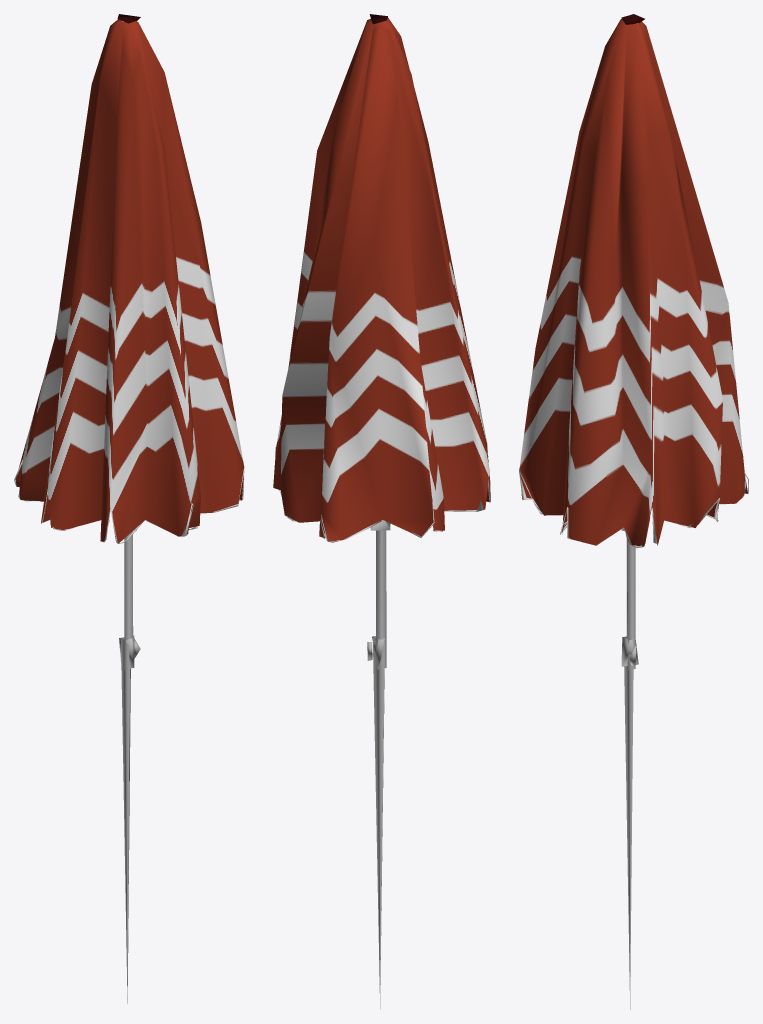
Rendered from sombrillaC.obj.
The picture shows the model from 3 angles, left to right: view 1: azimuth 30°, elevation 25°; view 2: azimuth 150°, elevation 25°; view 3: azimuth 270°, elevation 25°; orthographic projection.
Visible parts, largest first — view 1: Sun_Umbrella_closed_Mesh.012; view 2: Sun_Umbrella_closed_Mesh.012; view 3: Sun_Umbrella_closed_Mesh.012.
Boxes of the visible parts, x1=… form: Sun_Umbrella_closed_Mesh.012: x1=14, y1=14, x2=244, y2=1003; Sun_Umbrella_closed_Mesh.012: x1=273, y1=14, x2=490, y2=1009; Sun_Umbrella_closed_Mesh.012: x1=519, y1=14, x2=748, y2=1009.
Bounding box in the file's own units: 0.333 × 1.64 × 0.3434.
Materials: 6 (1 with a texture image).
